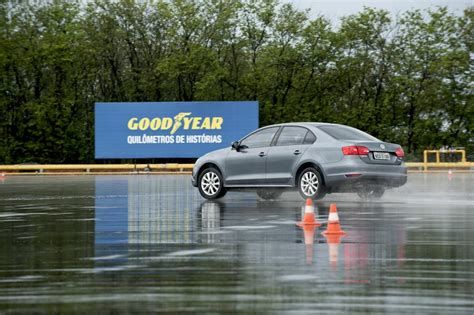Carro: (186, 120, 407, 200)
